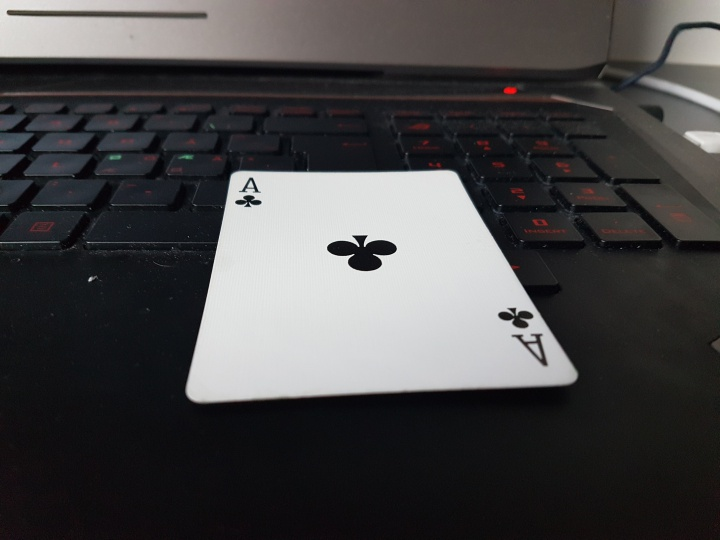ace: (178, 170, 580, 410)
